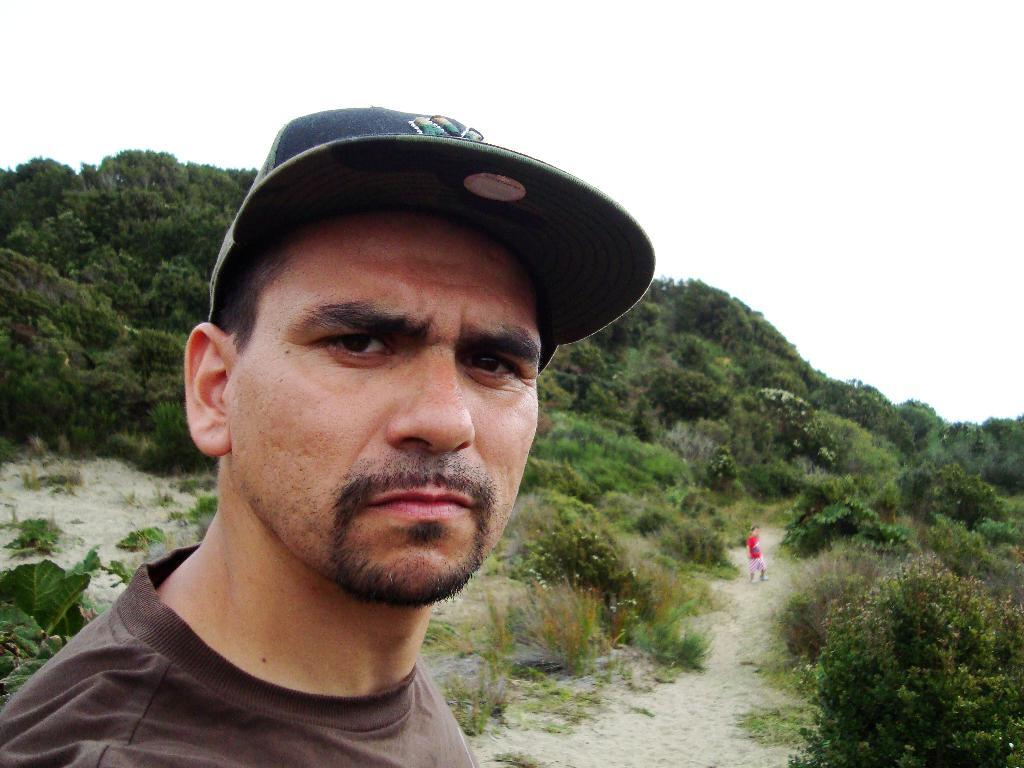Hat: (208, 109, 652, 322)
